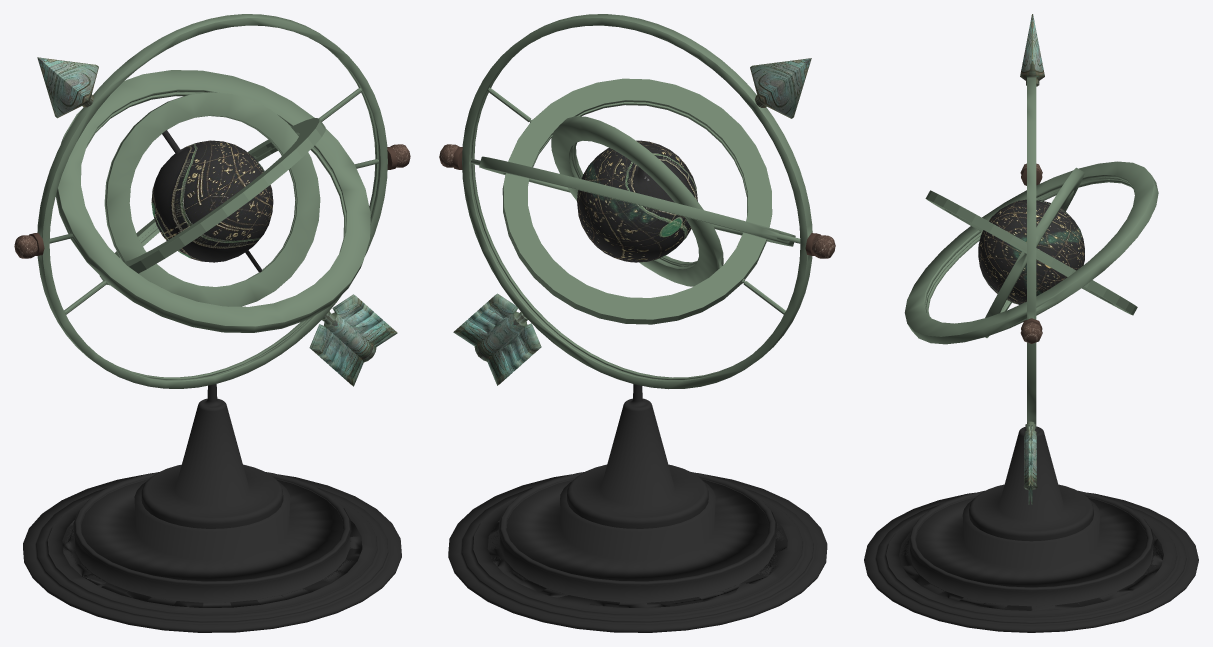
File: 可动浑天仪3.1.7.fbx
3 renders of one model, left to right at view 1: azimuth 30°, elevation 25°; view 2: azimuth 150°, elevation 25°; view 3: azimuth 270°, elevation 25°, orthographic. The views are drawn at different scales.
Parts seen in each view (by area): view 1: 云台, 赤道环, 赤经环, 子午环, 天球, 黄道环, 装饰1.001, 装饰2, Circle.005; view 2: 云台, 黄道环, 子午环, 天球, 赤经环, 赤道环, 装饰1.001, 装饰2, Circle.005; view 3: 云台, 赤道环, 天球, 子午环, 黄道环, 赤经环, 装饰2, 装饰1.001, Circle.005.
Boxes of the visible parts, left/top/right/bottom form: 云台: left=23, top=384, right=401, bottom=632; 赤道环: left=49, top=70, right=378, bottom=332; 赤经环: left=104, top=92, right=320, bottom=306; 子午环: left=37, top=14, right=387, bottom=388; 天球: left=151, top=130, right=273, bottom=272; 黄道环: left=64, top=87, right=362, bottom=314; 装饰1.001: left=309, top=294, right=397, bottom=386; 装饰2: left=37, top=57, right=98, bottom=118; Circle.005: left=14, top=144, right=410, bottom=258; 云台: left=448, top=384, right=827, bottom=632; 黄道环: left=487, top=78, right=785, bottom=324; 子午环: left=462, top=14, right=812, bottom=389; 天球: left=577, top=140, right=697, bottom=262; 赤经环: left=551, top=116, right=723, bottom=286; 赤道环: left=471, top=156, right=800, bottom=246; 装饰1.001: left=453, top=293, right=541, bottom=385; 装饰2: left=750, top=58, right=811, bottom=118; Circle.005: left=439, top=144, right=835, bottom=258; 云台: left=864, top=426, right=1198, bottom=632; 赤道环: left=904, top=161, right=1158, bottom=344; 天球: left=978, top=199, right=1084, bottom=304; 子午环: left=1027, top=77, right=1036, bottom=428; 黄道环: left=925, top=190, right=1137, bottom=315; 赤经环: left=985, top=167, right=1084, bottom=337; 装饰2: left=1020, top=14, right=1044, bottom=86; 装饰1.001: left=1023, top=421, right=1037, bottom=504; Circle.005: left=1020, top=163, right=1042, bottom=343.
Size of the model in its own units: 1059 by 1389 by 889.
